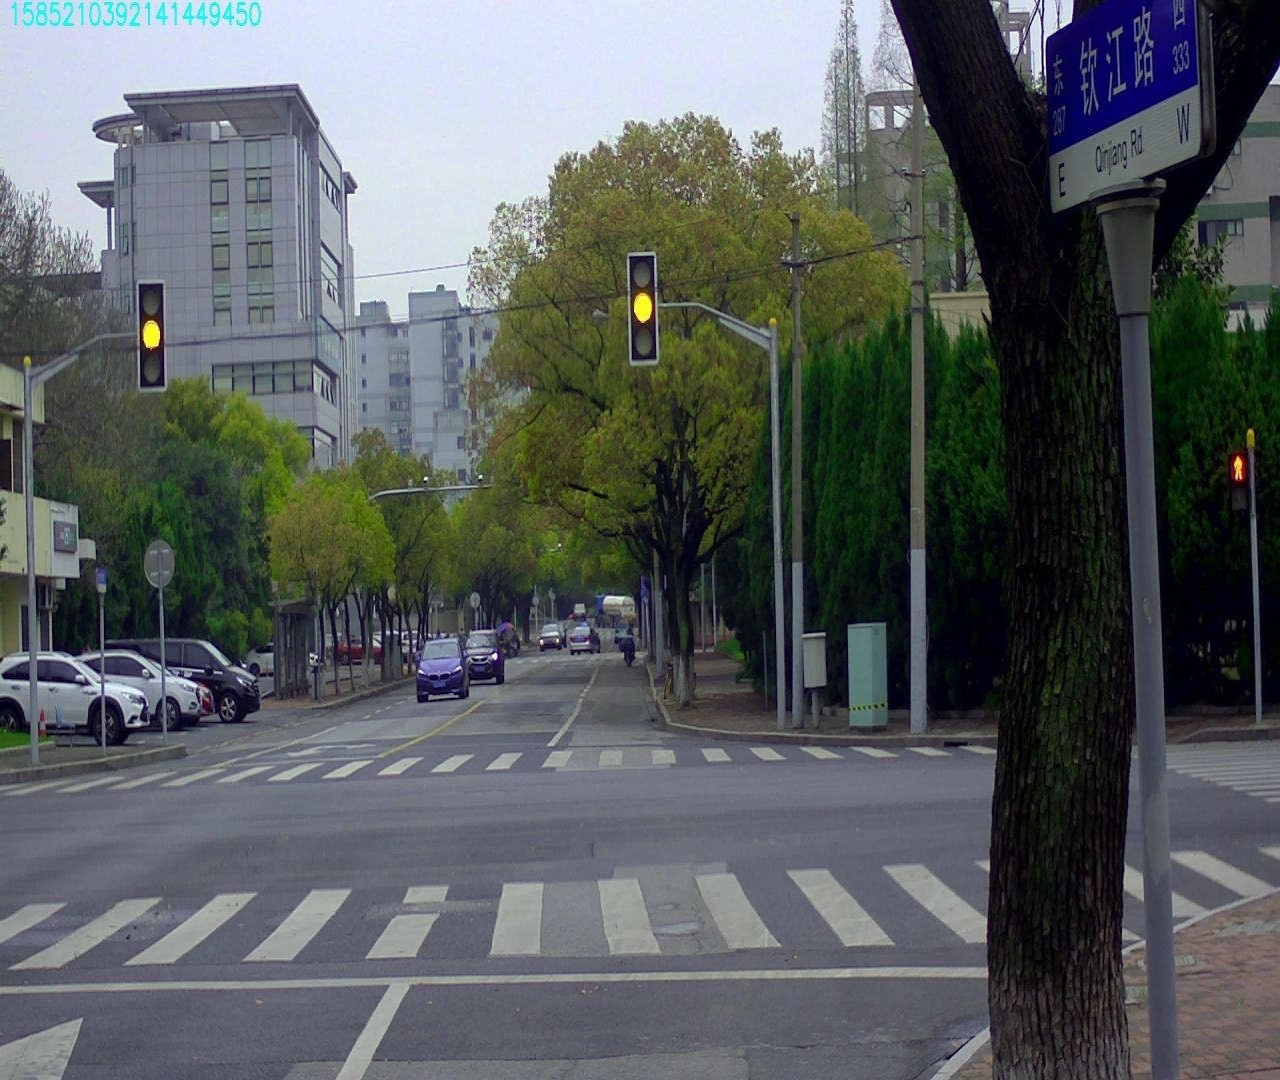yellow: (629, 253, 657, 364), (137, 281, 164, 390)
